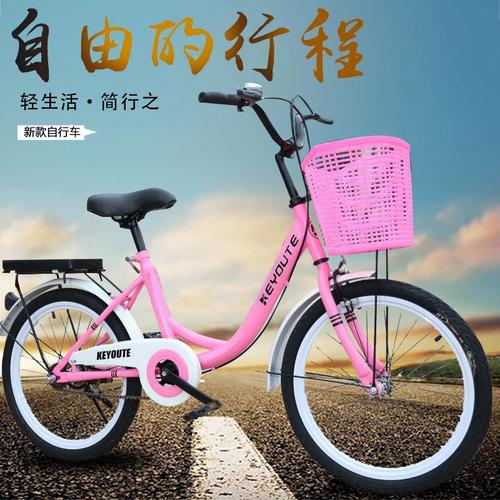单车: (6, 84, 500, 494)
